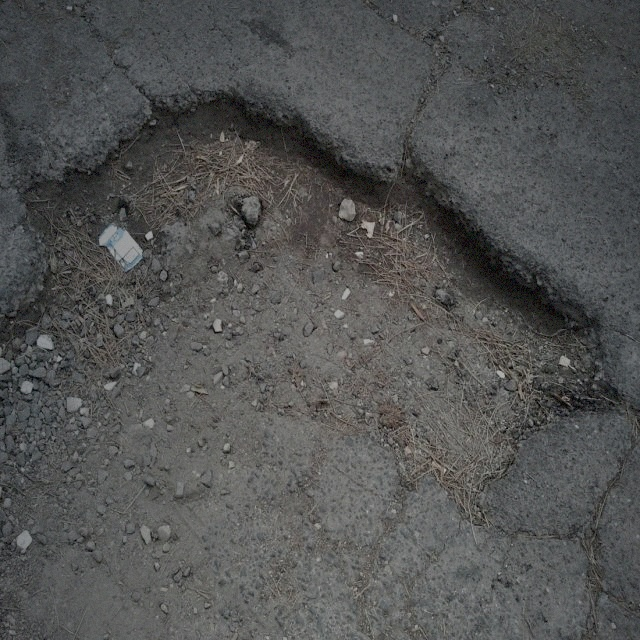pothole: (16, 74, 602, 524)
